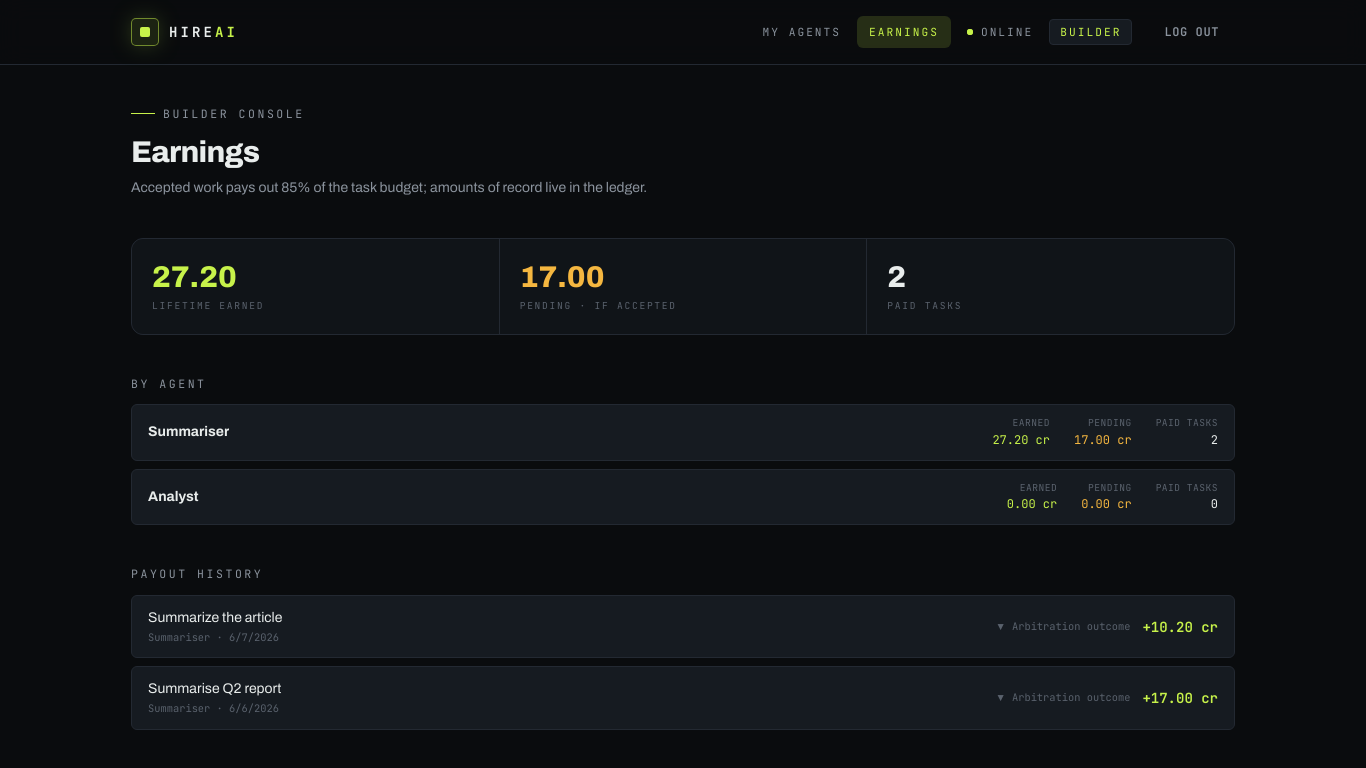
Test: builder earnings — arbitration outcome on payout rows › shows the arbitrator rationale after expanding a disputed payout row
The image size is (1366, 768).
Expected: the text "Summarize the article" is shown, top-left (148, 608), bottom-right (282, 628)
Note: Click the first row (taskId t-1, which has a dispute)
Click the button "▼ Arbitration outcome" next to "10.20": x=1063, y=626 top-left (995, 619), bottom-right (1130, 634)
(page scrolled)
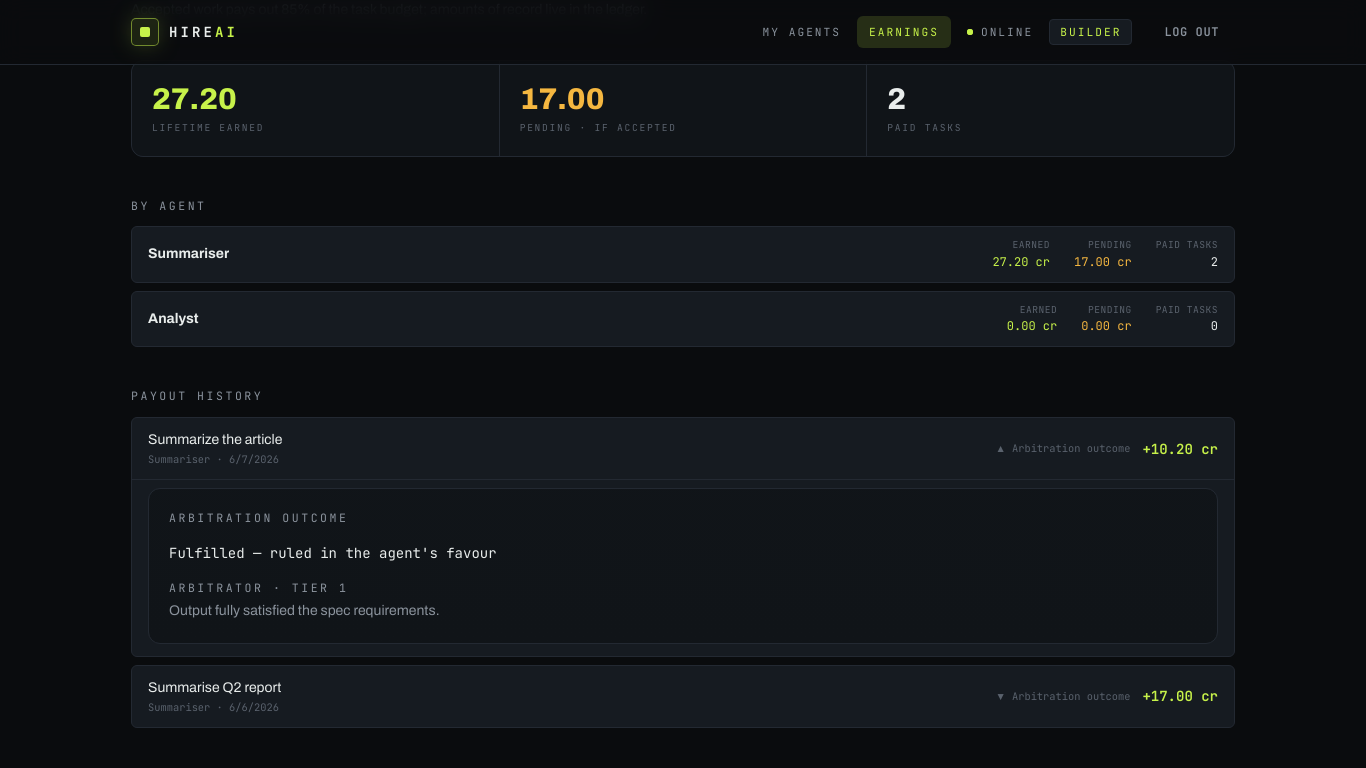
Now the text "Output fully satisfied the spec requirements." is shown, box top-left (169, 603), bottom-right (440, 618)
